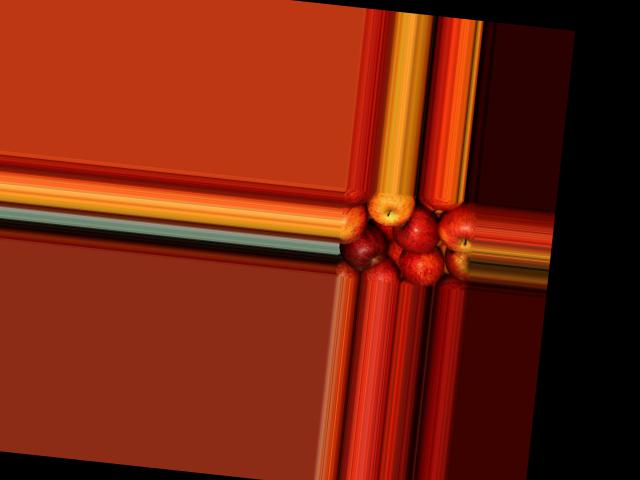apple: (393, 241, 447, 286)
